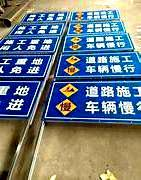sign: (51, 83, 141, 122), (59, 54, 140, 76), (1, 80, 36, 120), (1, 54, 49, 80), (64, 34, 132, 50), (1, 36, 55, 53), (66, 21, 122, 32), (73, 9, 120, 20), (14, 23, 62, 33), (24, 12, 68, 20)
